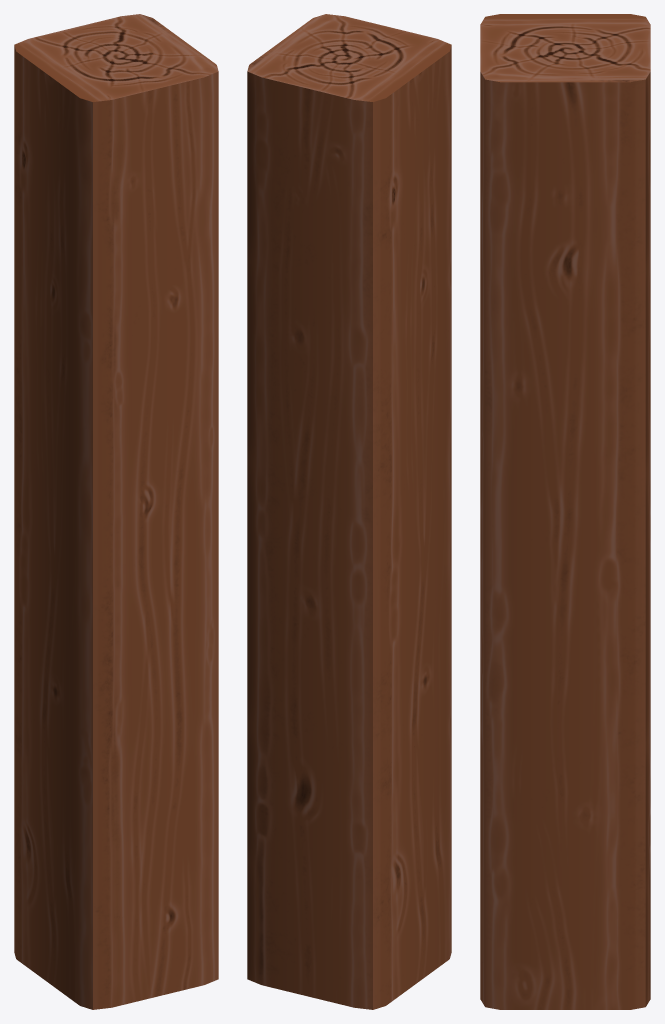
The model's file is SM_Wood_Beam_02.fbx.
The picture shows the model from 3 angles, left to right: view 1: azimuth 30°, elevation 25°; view 2: azimuth 150°, elevation 25°; view 3: azimuth 270°, elevation 25°; orthographic projection. The views are drawn at different scales.
Parts seen in each view (by area): view 1: SM_Wood_Beam_02_LOD0; view 2: SM_Wood_Beam_02_LOD0; view 3: SM_Wood_Beam_02_LOD0.
Part boxes in pixels (x1,y1,x2,y2): SM_Wood_Beam_02_LOD0: [14, 14, 218, 1009]; SM_Wood_Beam_02_LOD0: [247, 14, 451, 1009]; SM_Wood_Beam_02_LOD0: [480, 14, 650, 1009].
Bounding box in the file's own units: 56.87 × 60.09 × 361.
1 material, 1 textured.
